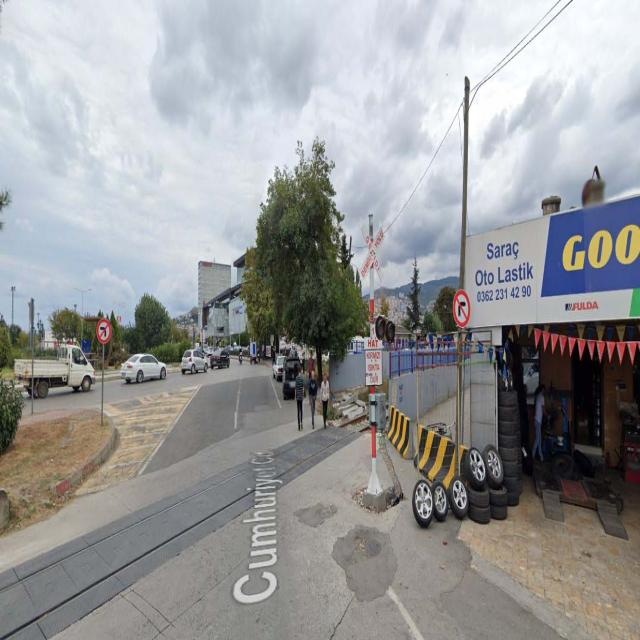sagadonulmez: (454, 289, 471, 328)
soladonulmez: (96, 318, 111, 343)
